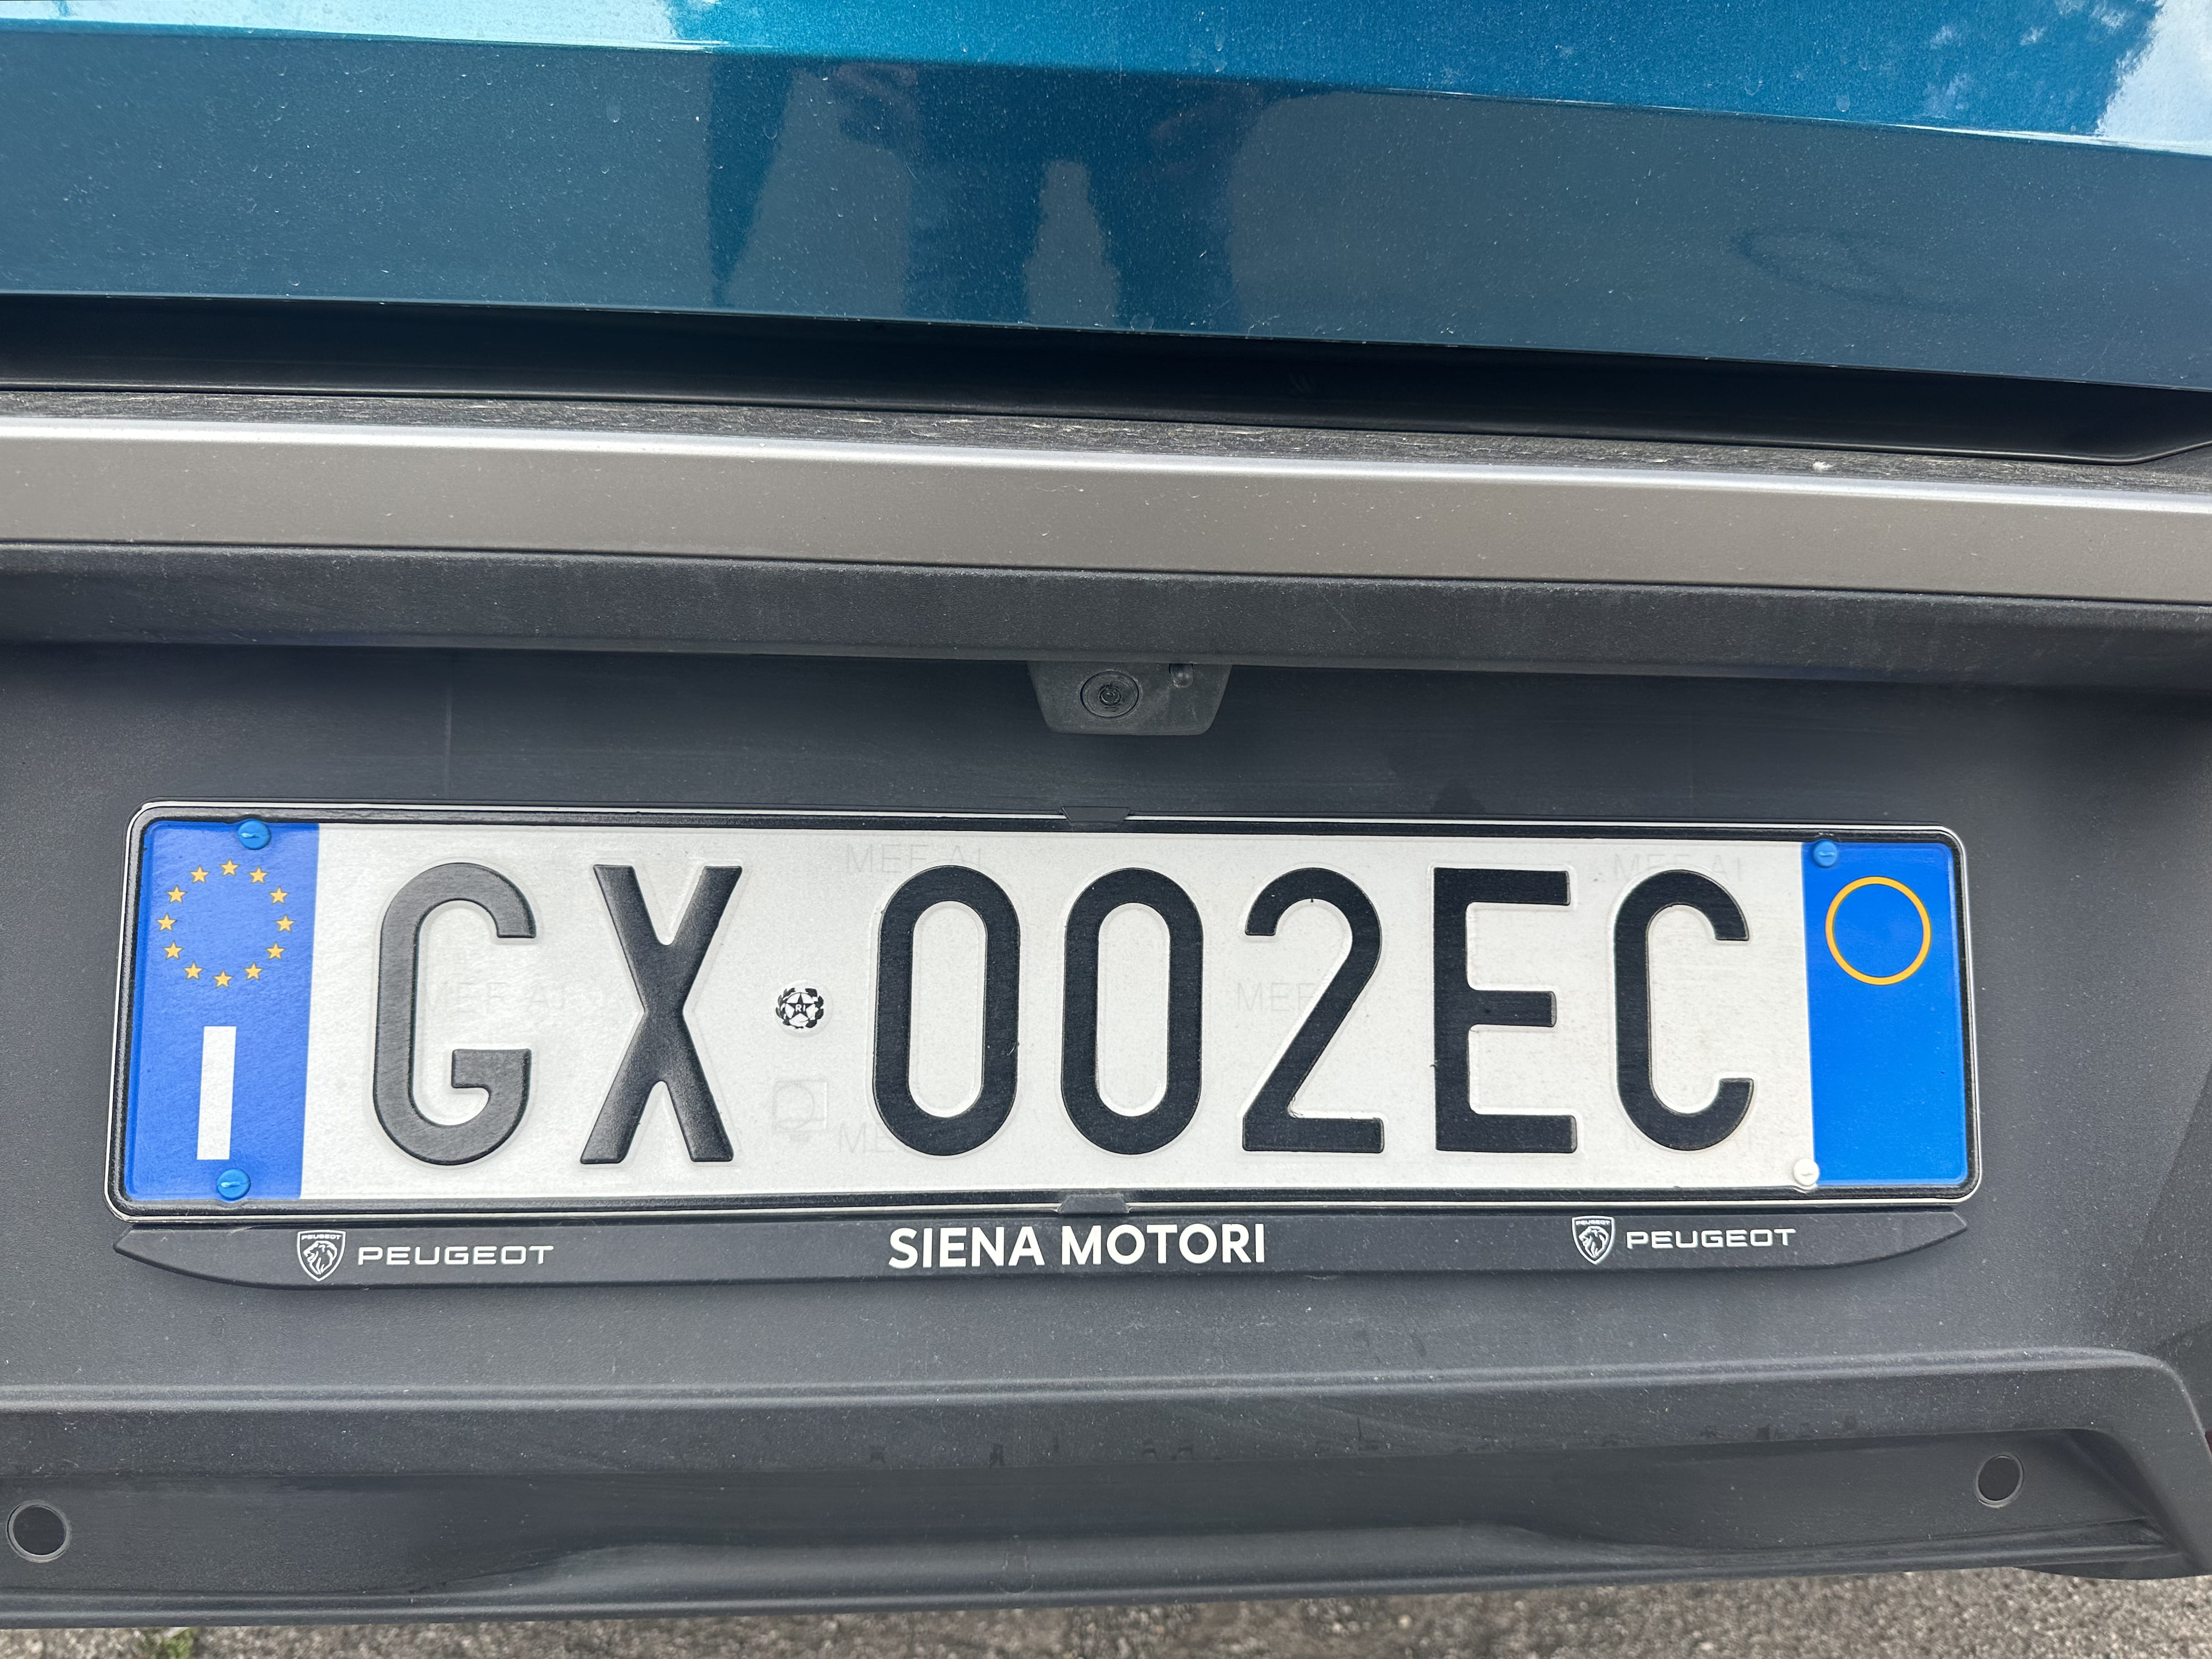license-plate: (105, 798, 2006, 1222)
